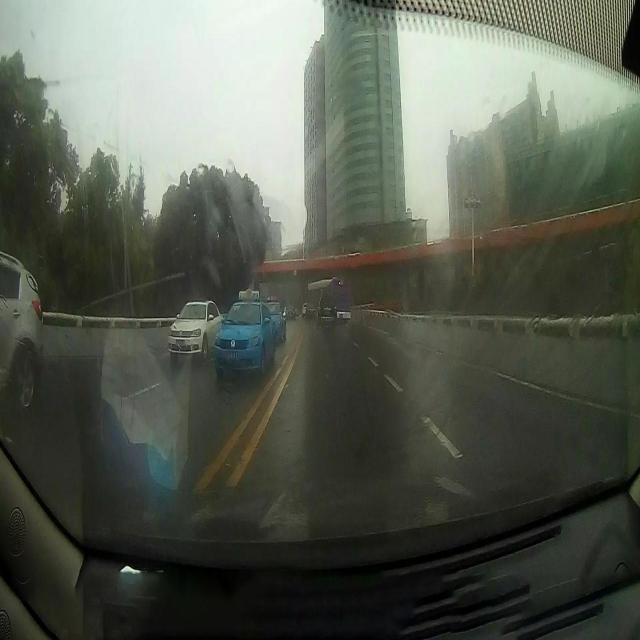car: (0, 254, 42, 406), (216, 304, 274, 382), (168, 298, 220, 360), (268, 297, 286, 342)
